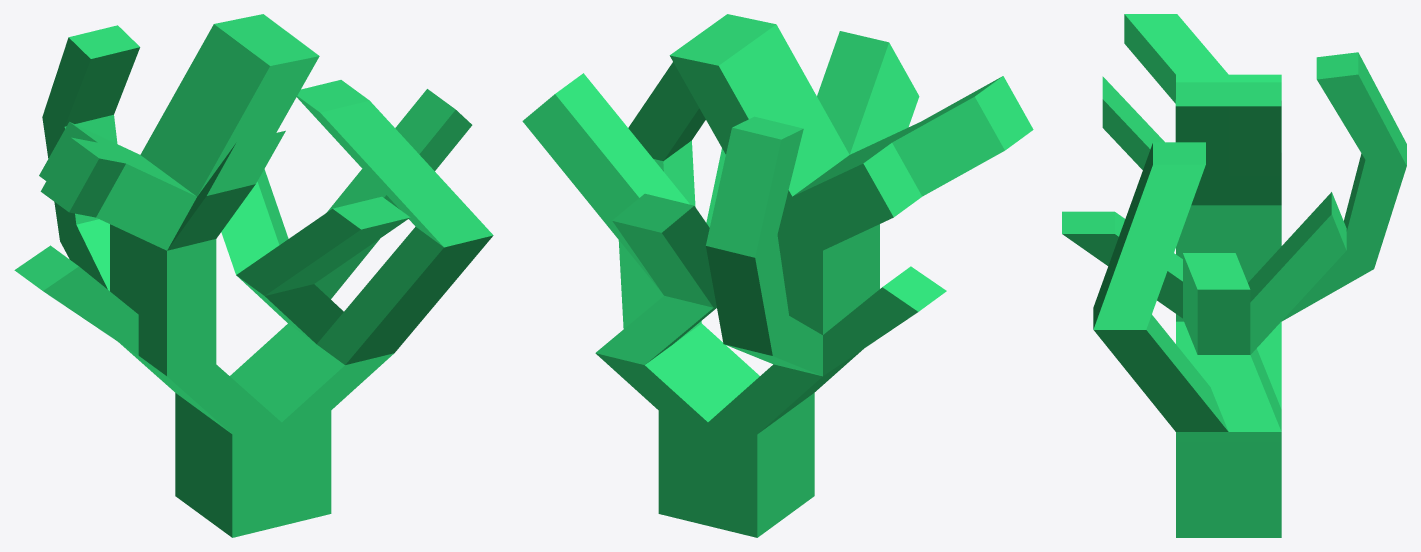
File: sango_another.fbx
The picture shows the model from 3 angles, left to right: view 1: azimuth 30°, elevation 25°; view 2: azimuth 150°, elevation 25°; view 3: azimuth 270°, elevation 25°; orthographic projection. The views are drawn at different scales.
Visible parts, largest first — view 1: Cube; view 2: Cube; view 3: Cube.
Part boxes in pixels (<box>): Cube: <box>14,14,493,537</box>; Cube: <box>522,14,1033,537</box>; Cube: <box>1062,14,1406,537</box>.
Bounding box in the file's own units: 288 × 288 × 210.
